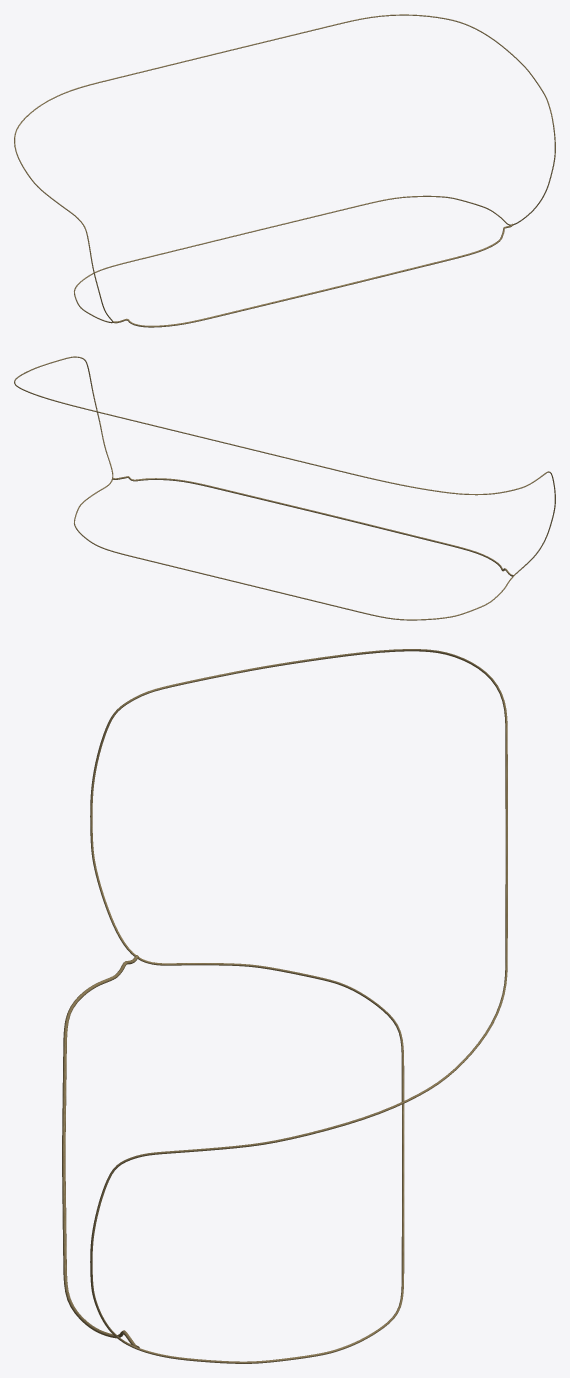
File: Sofa_crease.obj
The picture shows the model from 3 angles, top to bottom: view 1: azimuth 30°, elevation 25°; view 2: azimuth 150°, elevation 25°; view 3: azimuth 270°, elevation 25°; orthographic projection. The views are drawn at different scales.
Visible parts, largest first — view 1: Sofa_crease; view 2: Sofa_crease; view 3: Sofa_crease.
Part boxes in pixels (x1,y1,x2,y2): Sofa_crease: (14,14,555,327); Sofa_crease: (14,356,555,620); Sofa_crease: (62,649,507,1363).
Size of the model in its own units: 1.85 by 0.5888 by 0.7315.
Materials: 1 (1 with a texture image).
